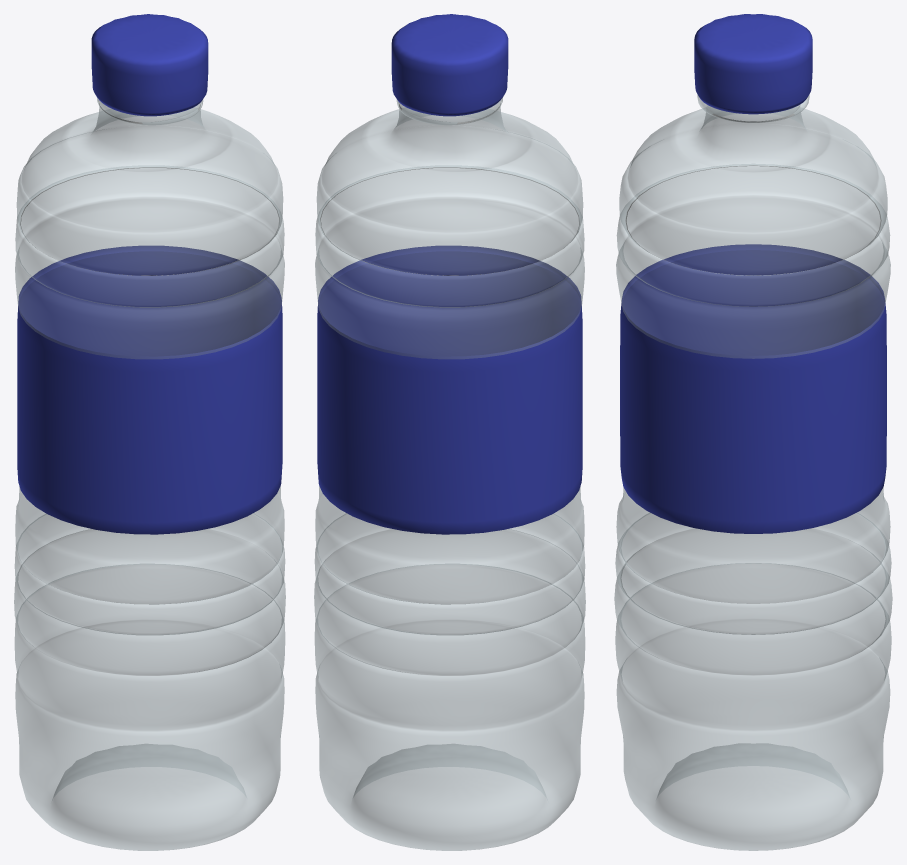
The model's file is bottle_just_colour.fbx.
The picture shows the model from 3 angles, left to right: view 1: azimuth 30°, elevation 25°; view 2: azimuth 150°, elevation 25°; view 3: azimuth 270°, elevation 25°; orthographic projection.
Visible parts, largest first — view 1: pCylinder2; view 2: pCylinder2; view 3: pCylinder2.
Part boxes in pixels (x1=…): pCylinder2: x1=14, y1=14, x2=285, y2=850; pCylinder2: x1=314, y1=14, x2=585, y2=850; pCylinder2: x1=614, y1=14, x2=892, y2=850.
Size of the model in its own units: 1.32 by 4.14 by 1.35.
